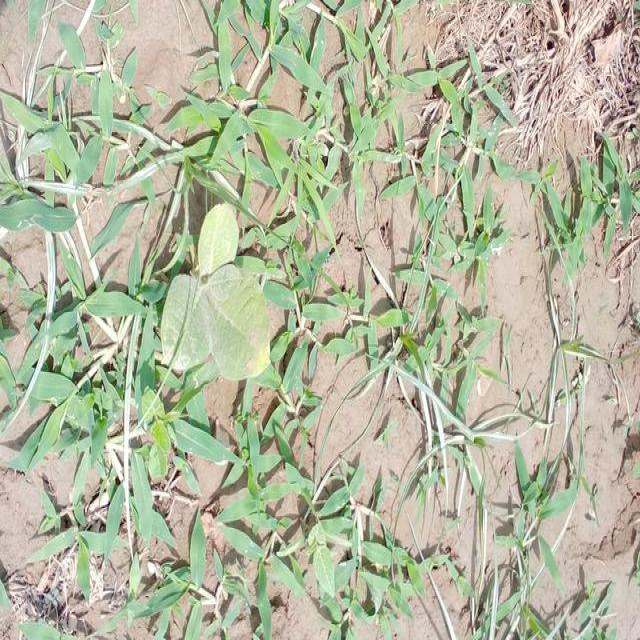crop: (154, 207, 274, 380)
